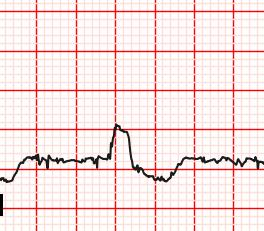T inversion: (127, 155, 192, 184)
